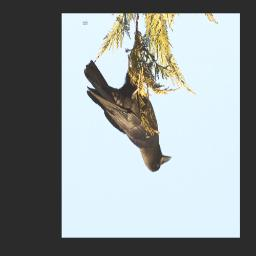Crow: (84, 55, 173, 176)
